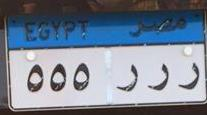5: (24, 61, 47, 95), (71, 62, 92, 93), (48, 61, 68, 93)
raa: (113, 62, 141, 96), (177, 61, 201, 93), (146, 61, 170, 93)
